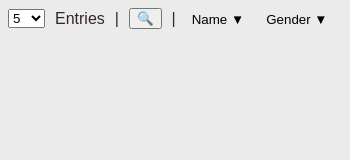
Filters Component › opens options when clicking on option filter
Click the button "Gender ▼" at coordinates (297, 19), box [260, 10, 334, 28]
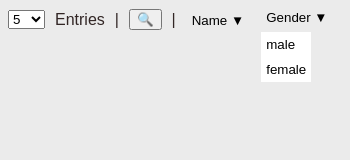
Expected: the button "male" is shown, [261, 32, 311, 57]
Expected: the button "female" is shown, [261, 57, 311, 82]
